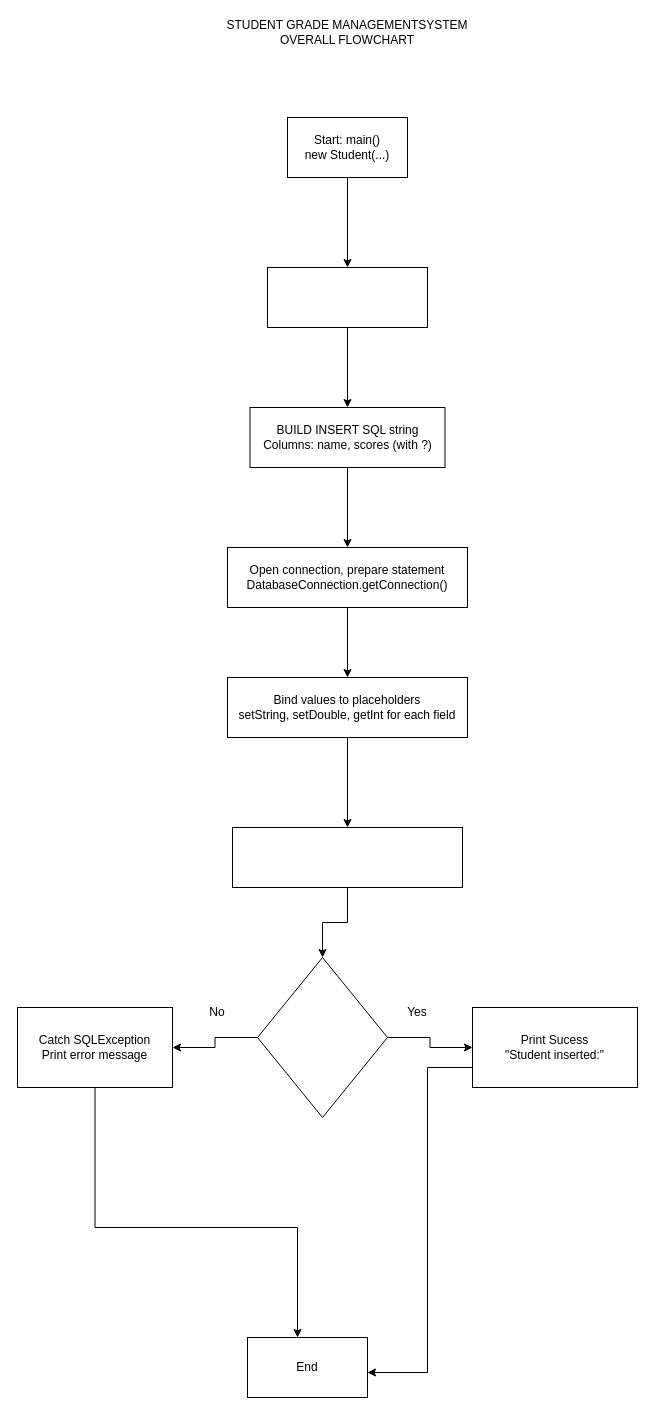
Some shapes in this 655 by 1415 pixel diagram are drawn without their labels. Each missing label, with the centre of its shape:
"dao.insertStudent(student) Called from main" belongs at point 347,297.
"Did it Succeed?" belongs at point 322,1037.
"stmt.executeUpdate() Sends INSERT to PostgreSQL" belongs at point 347,857.
